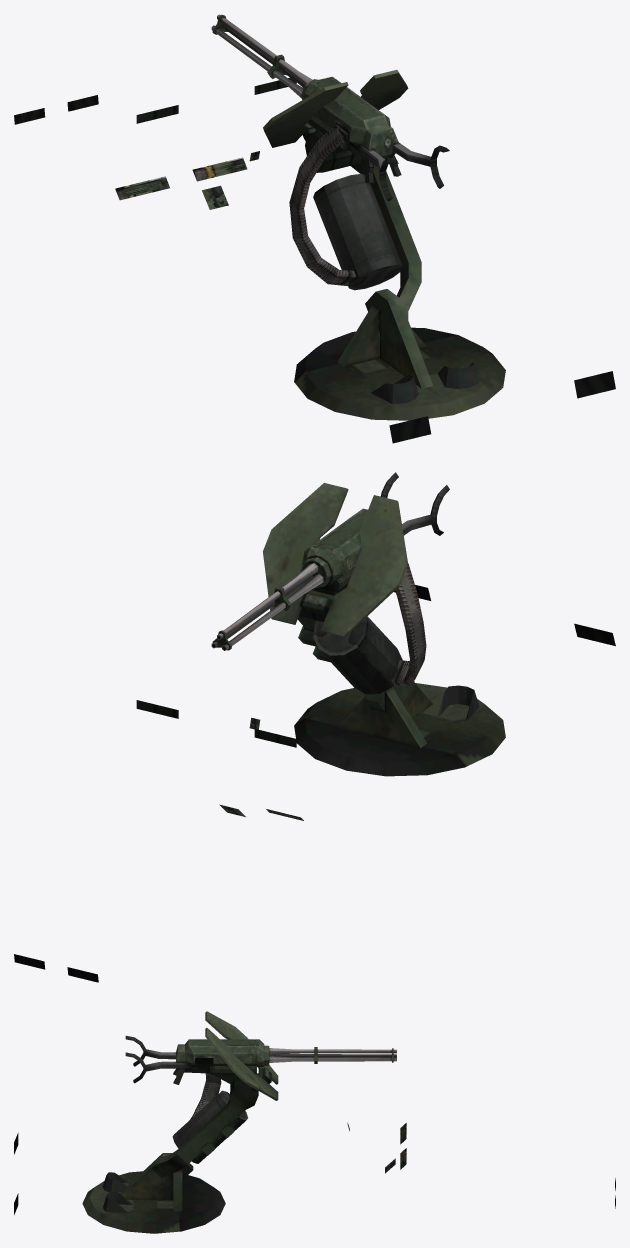
Rendered from warthog_torreta.obj.
The picture shows the model from 3 angles, top to bottom: view 1: azimuth 30°, elevation 25°; view 2: azimuth 150°, elevation 25°; view 3: azimuth 270°, elevation 25°; orthographic projection. The views are drawn at different scales.
Size of the model in its own units: 1.11 by 1.28 by 3.86.
